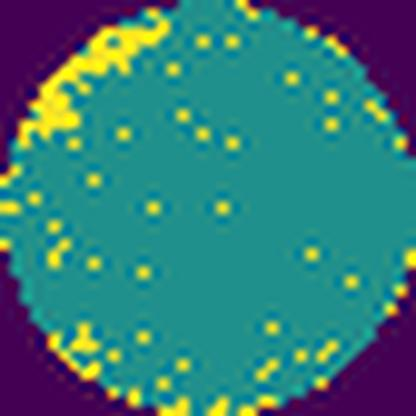Edge-Loc: (7, 4, 173, 156), (49, 317, 109, 384), (160, 397, 258, 416)
